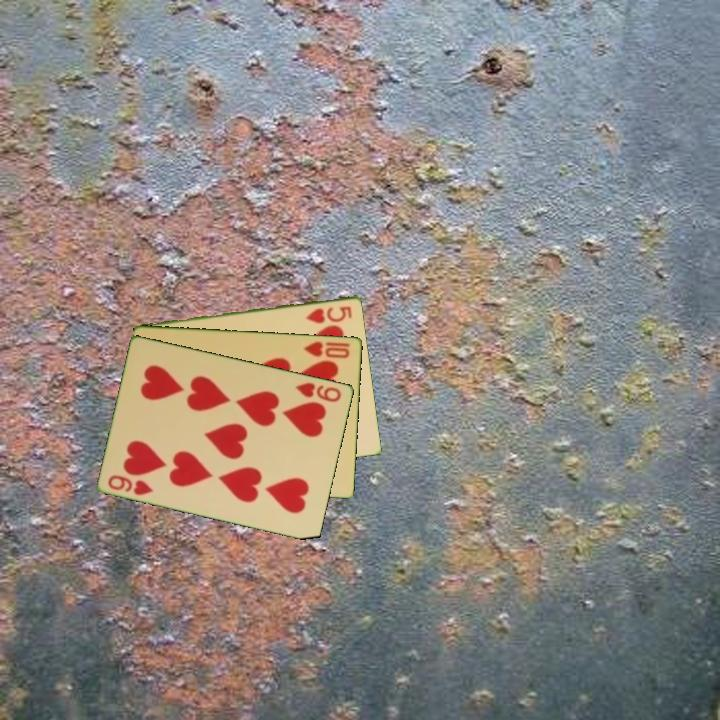10h: (300, 338, 352, 361)
5h: (303, 302, 355, 326)
9h: (105, 471, 156, 498), (292, 379, 344, 405)
